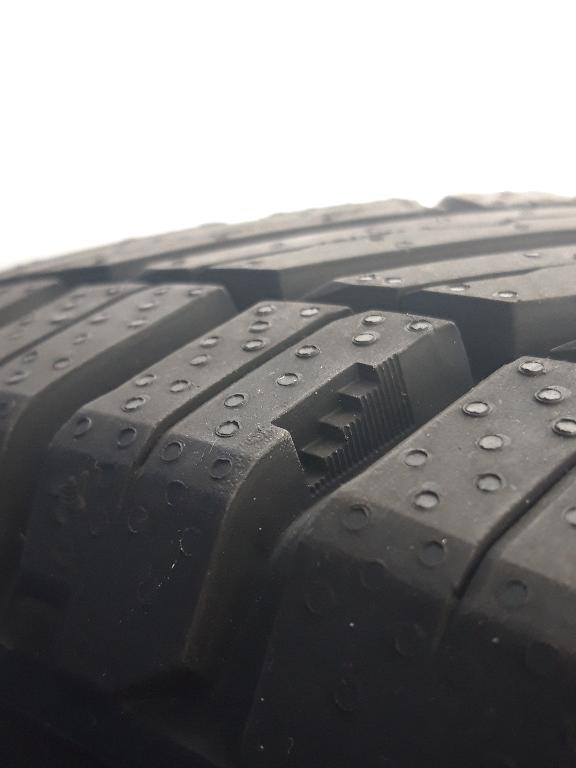temoin:100: (267, 351, 420, 500)
